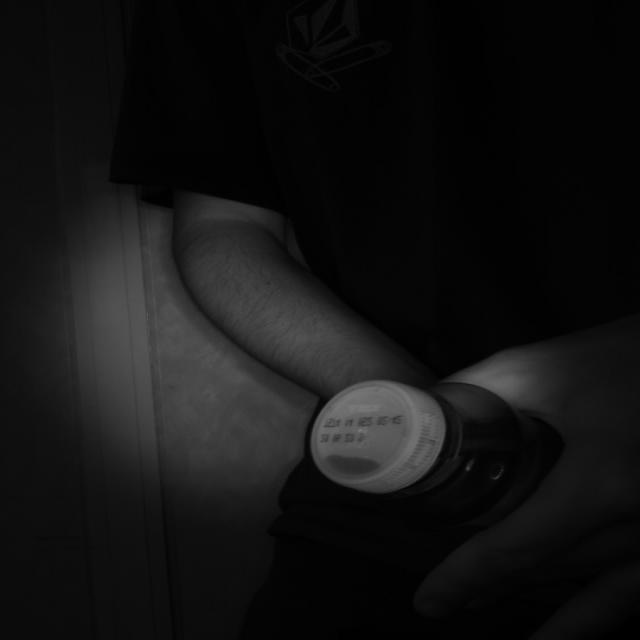Good: (311, 380, 446, 493)
